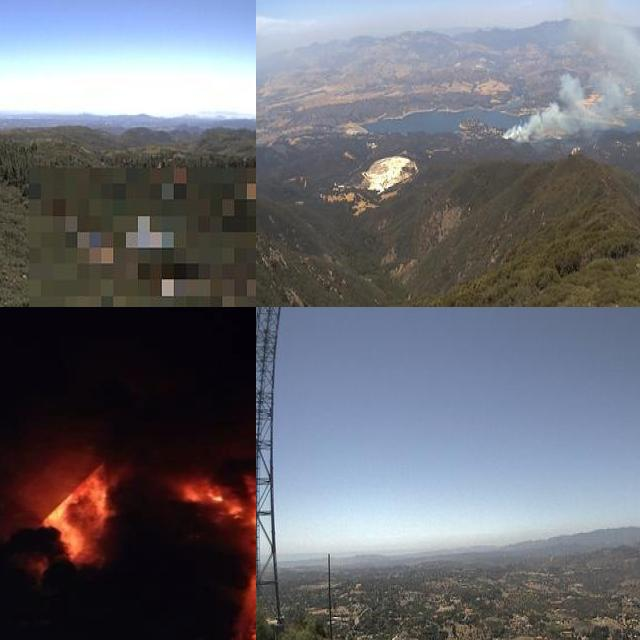fire: (47, 484, 101, 554), (246, 493, 256, 596)
smoke: (0, 307, 256, 492), (497, 0, 640, 145)
